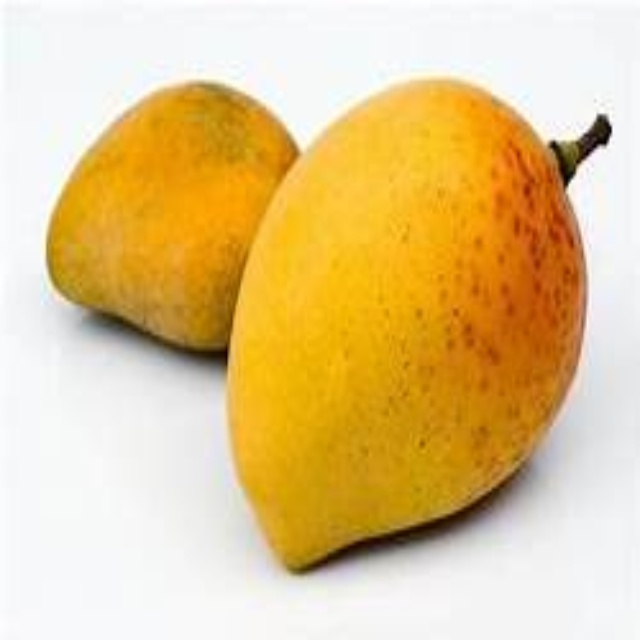mango: (233, 79, 583, 562), (50, 83, 299, 355)
